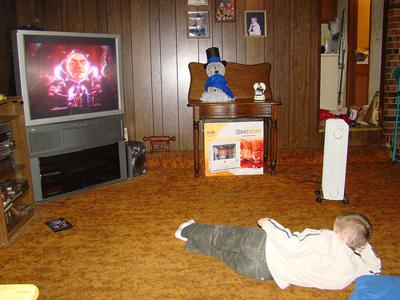person: (175, 214, 383, 290)
